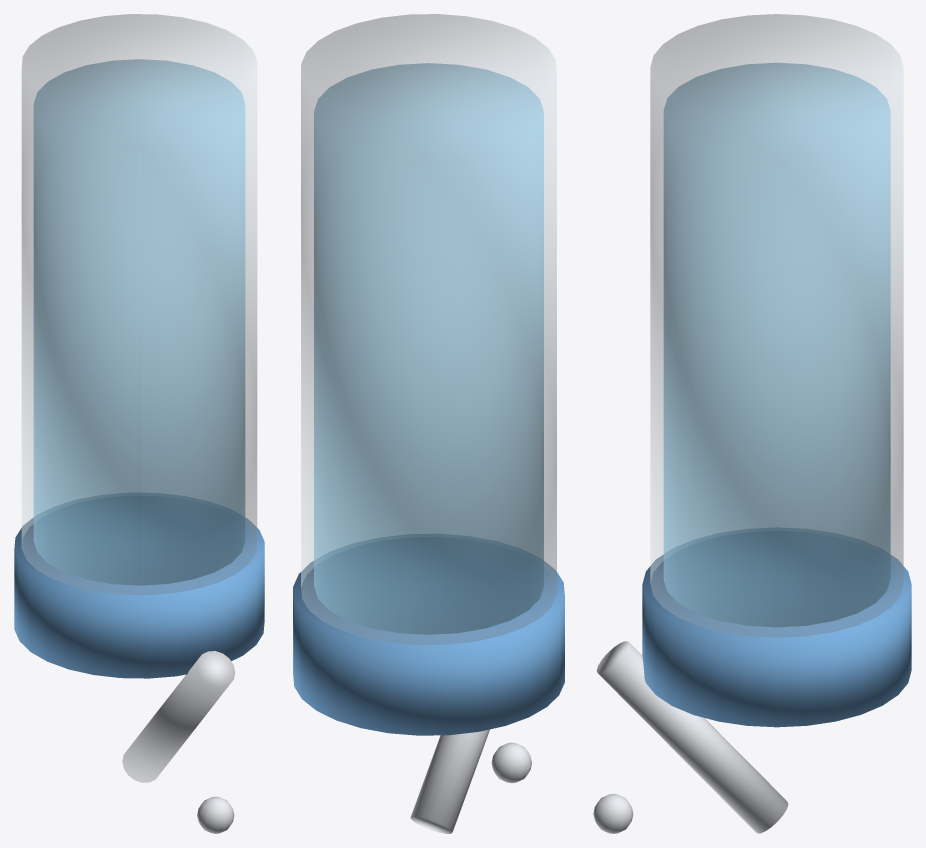
Rendered from water_bottle.glb.
3 views of the same model, side by side, from view 1: azimuth 30°, elevation 25°; view 2: azimuth 150°, elevation 25°; view 3: azimuth 270°, elevation 25° (orthographic). The views are drawn at different scales.
Parts seen in each view (by area): view 1: water_bottle_body, water_liquid, water_bottle_cap, water_bottle_spout, water_bottle_ball; view 2: water_bottle_body, water_liquid, water_bottle_cap, water_bottle_spout, water_bottle_ball; view 3: water_bottle_body, water_liquid, water_bottle_cap, water_bottle_spout, water_bottle_ball.
Part boxes in pixels (bbox=[...]): water_bottle_body: bbox=[21, 14, 257, 594]; water_liquid: bbox=[33, 59, 245, 585]; water_bottle_cap: bbox=[14, 493, 264, 678]; water_bottle_spout: bbox=[122, 651, 235, 782]; water_bottle_ball: bbox=[197, 796, 234, 833]; water_bottle_body: bbox=[301, 14, 556, 644]; water_liquid: bbox=[314, 63, 543, 634]; water_bottle_cap: bbox=[293, 534, 564, 735]; water_bottle_spout: bbox=[410, 729, 489, 833]; water_bottle_ball: bbox=[491, 742, 531, 783]; water_bottle_body: bbox=[650, 14, 903, 637]; water_liquid: bbox=[663, 62, 890, 627]; water_bottle_cap: bbox=[642, 528, 911, 727]; water_bottle_spout: bbox=[596, 641, 788, 833]; water_bottle_ball: bbox=[593, 794, 633, 833].
Size of the model in its own units: 0.051 by 0.1598 by 0.0603.
